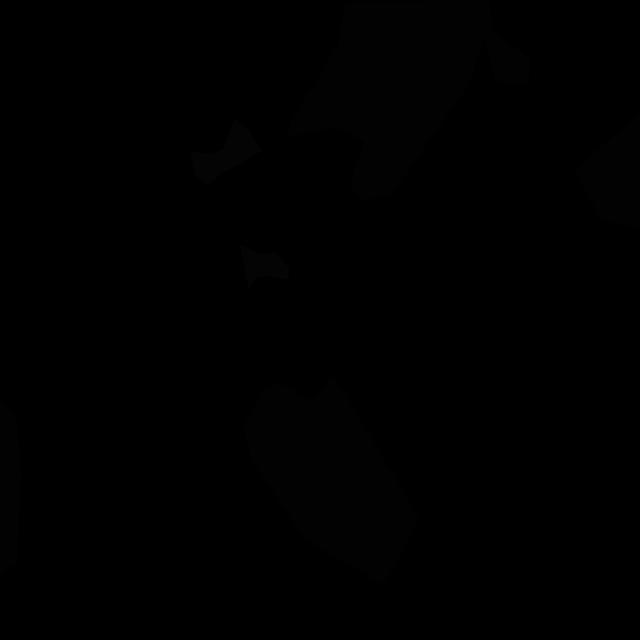cardboard: (288, 0, 530, 200), (243, 374, 420, 585), (574, 112, 640, 228), (0, 397, 21, 576)
soft_plastic: (190, 118, 262, 186), (240, 245, 289, 288)
